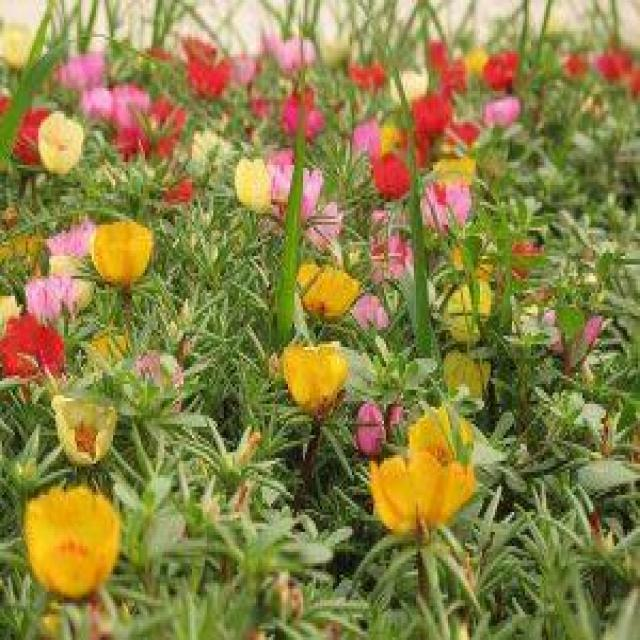organic waste: (25, 476, 131, 590), (361, 434, 484, 530), (56, 373, 125, 469), (276, 334, 353, 408), (99, 203, 161, 294), (291, 257, 364, 326), (27, 101, 90, 175), (428, 362, 498, 412), (232, 148, 291, 202)
